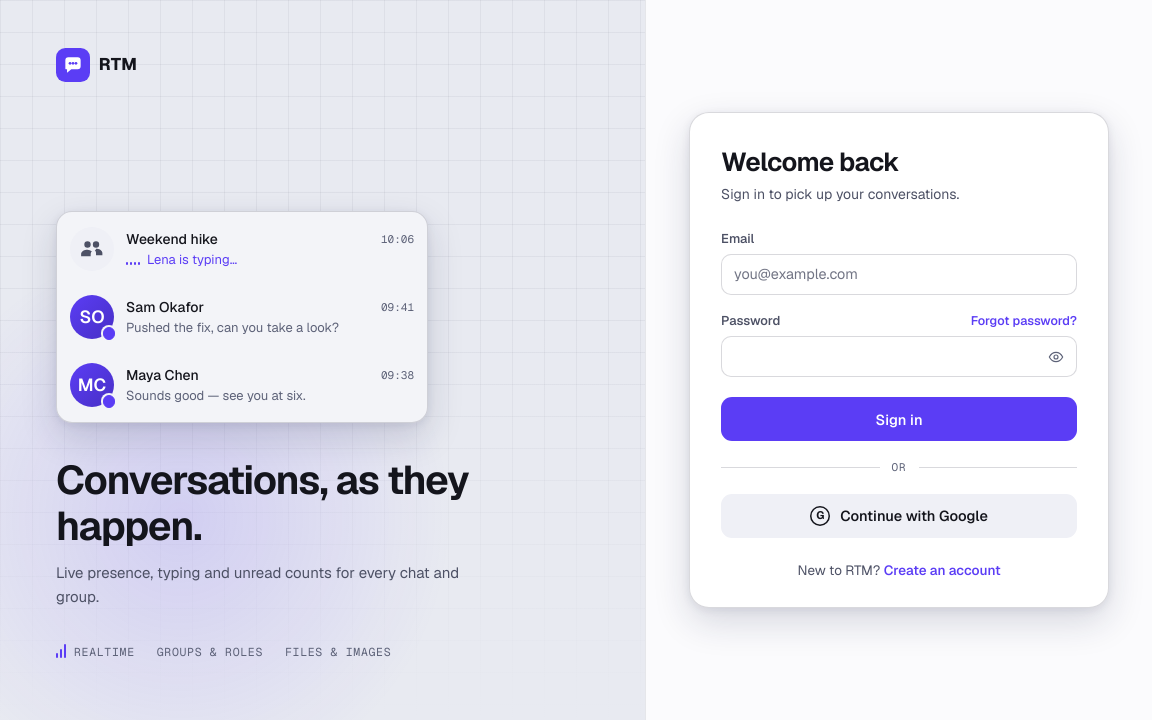
Scenario: LoginPage › says the email or password is wrong, without guessing which
This screenshot has width=1152, height=720.
Type "majd@example.com" into the field labelled "Email".
click(899, 274); type("majd@example.com")  # box [721,254,1077,295]
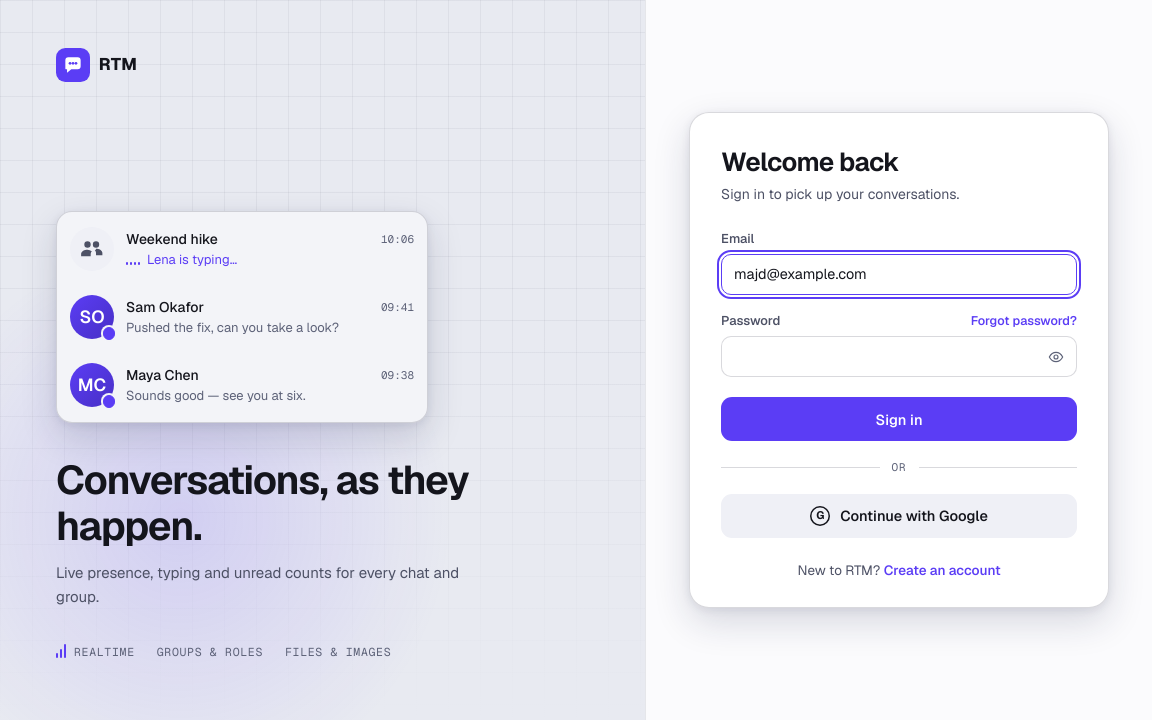
Type "wrong" into the password field labelled "Password".
click(881, 357); type("wrong")  # box [722,337,1040,376]
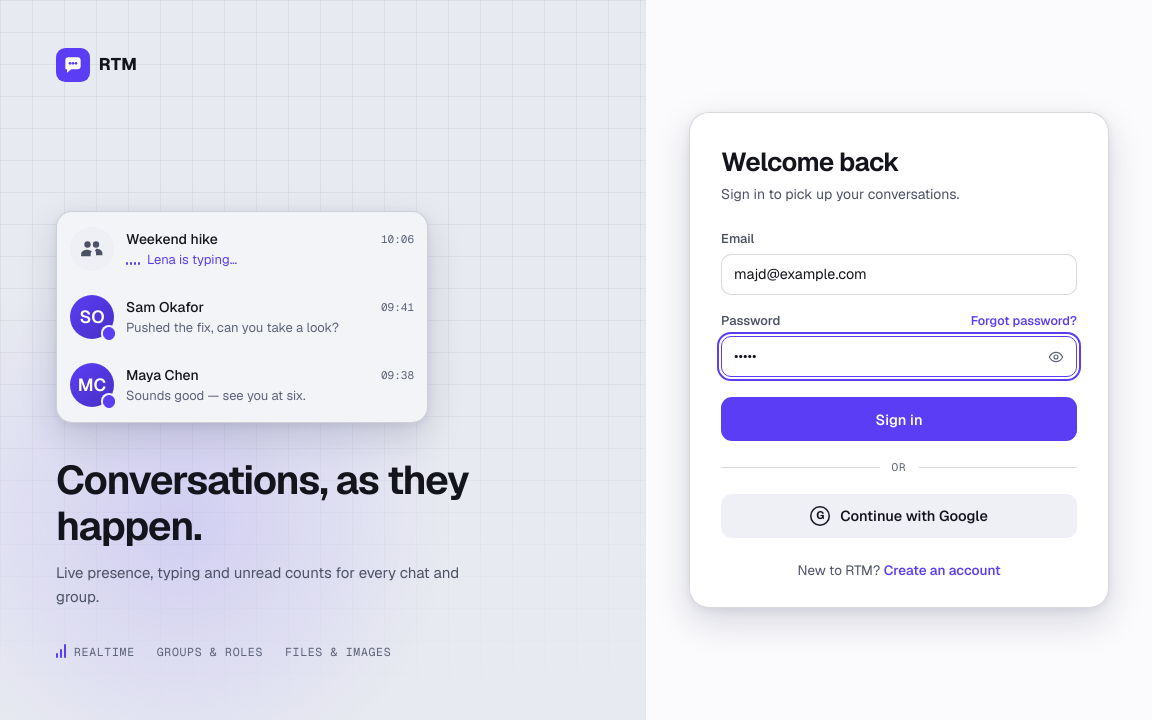
Click the button "Sign in".
click(899, 420)  # box [721,398,1077,442]
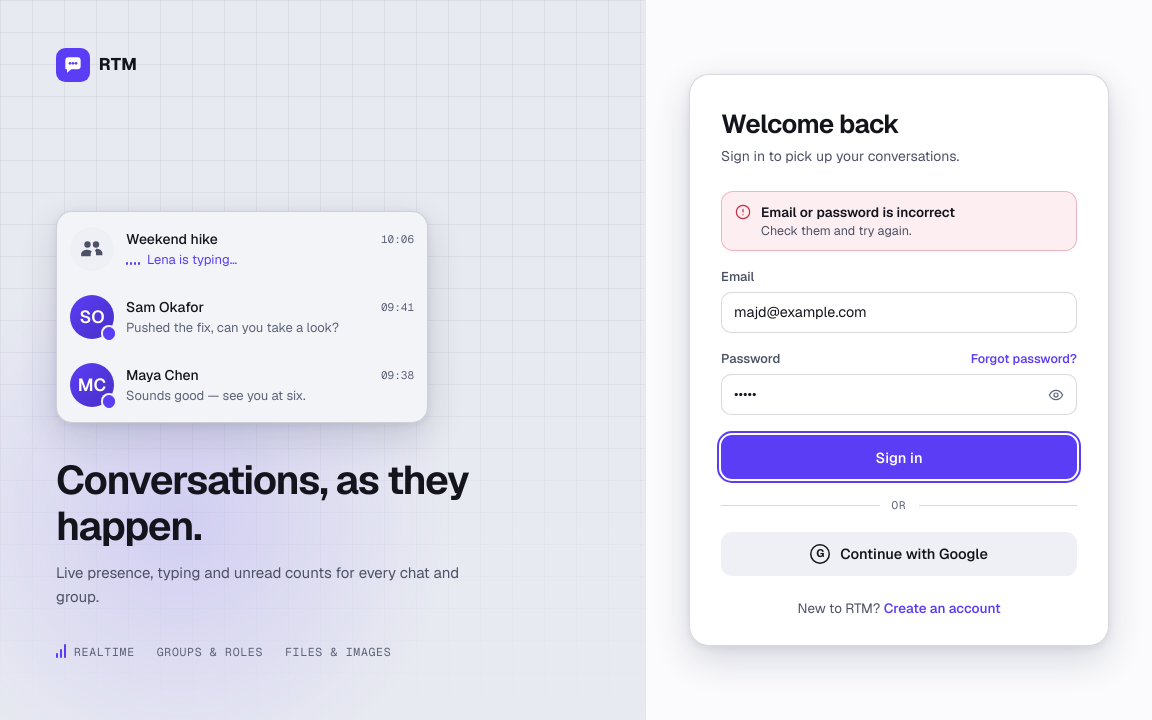
Check: the message shows "Email or password is incorrect", box [761,203,955,221]
